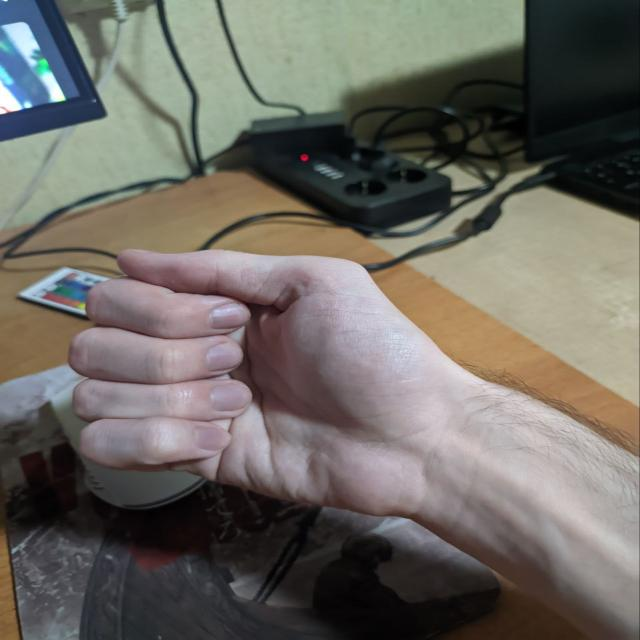a: (62, 235, 426, 512)
